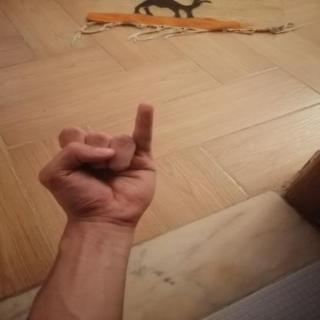MEEM: (27, 91, 179, 232)
